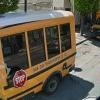Bus: (2, 6, 80, 96)
